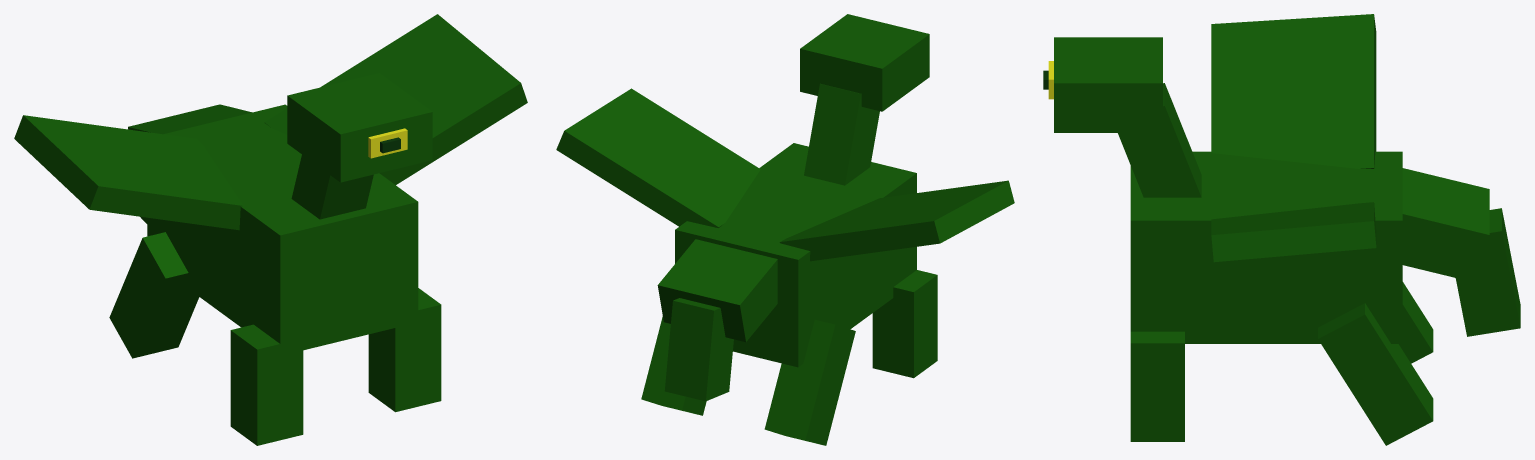
Rendered from AlianDragon.fbx.
3 views of the same model, side by side, from view 1: azimuth 30°, elevation 25°; view 2: azimuth 150°, elevation 25°; view 3: azimuth 270°, elevation 25° (orthographic). The views are drawn at different scales.
Parts seen in each view (by area): view 1: Cube.001, Cube.012; view 2: Cube.001; view 3: Cube.001.
Boxes of the visible parts, x1,y1,x2,y2 form: Cube.001: (14, 14, 527, 445); Cube.012: (368, 128, 407, 158); Cube.001: (556, 14, 1014, 445); Cube.001: (1054, 14, 1520, 445).
Bounding box in the file's own units: 190 × 138 × 175.
